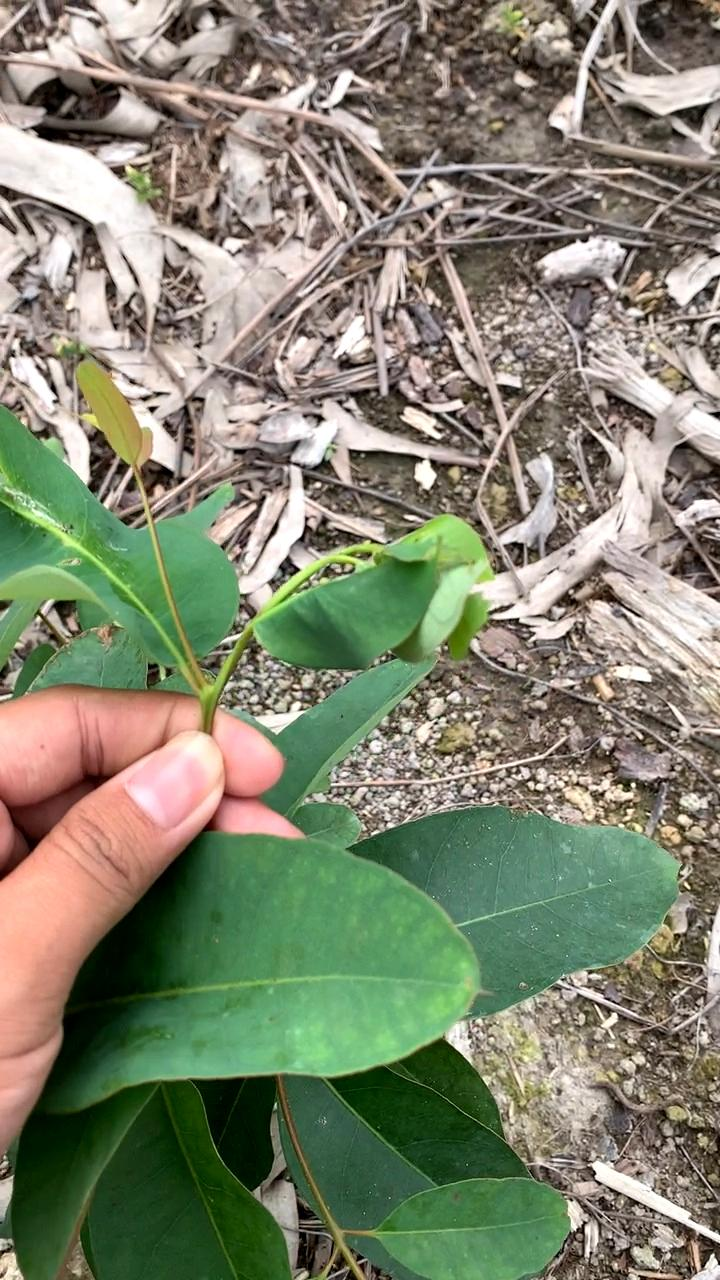Leaf Roller - Leaf: (256, 498, 519, 667)
